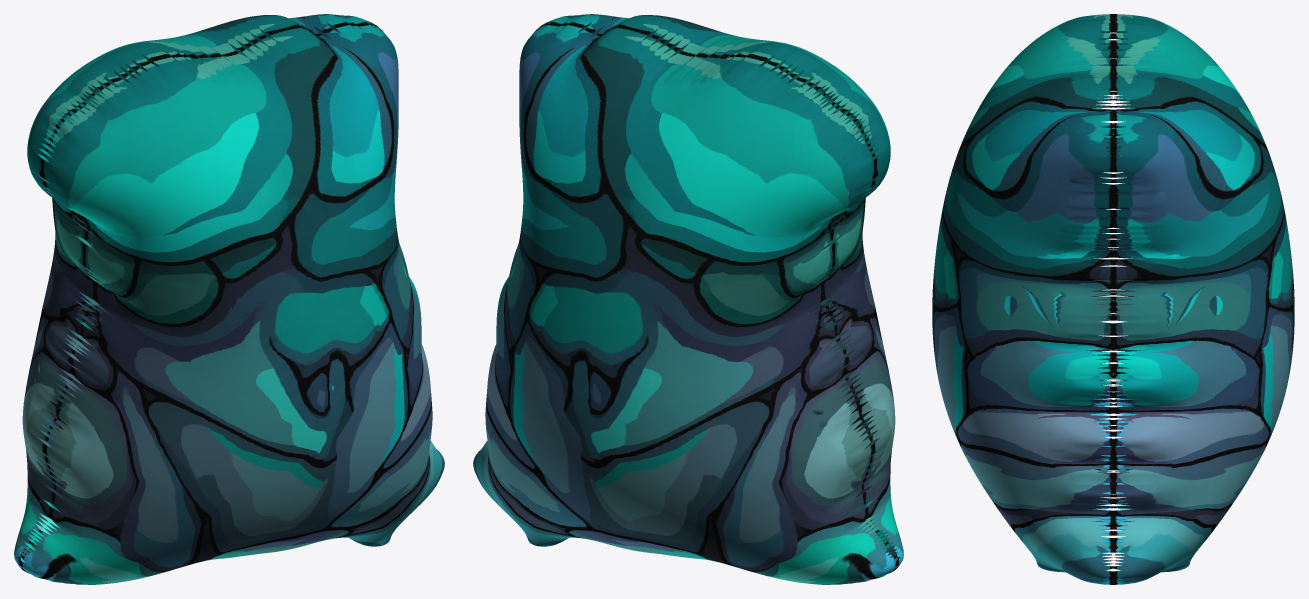
The model's file is teal_cliff.glb.
The picture shows the model from 3 angles, left to right: view 1: azimuth 30°, elevation 25°; view 2: azimuth 150°, elevation 25°; view 3: azimuth 270°, elevation 25°; orthographic projection. The views are drawn at different scales.
Parts seen in each view (by area): view 1: teal_cliff; view 2: teal_cliff; view 3: teal_cliff.
Boxes of the visible parts, left/top/right/bottom form: teal_cliff: left=14, top=14, right=444, bottom=584; teal_cliff: left=473, top=14, right=903, bottom=584; teal_cliff: left=932, top=14, right=1294, bottom=584.
Bounding box in the file's own units: 0.9872 × 1.13 × 0.8141.
Materials: 1 (1 with a texture image).
